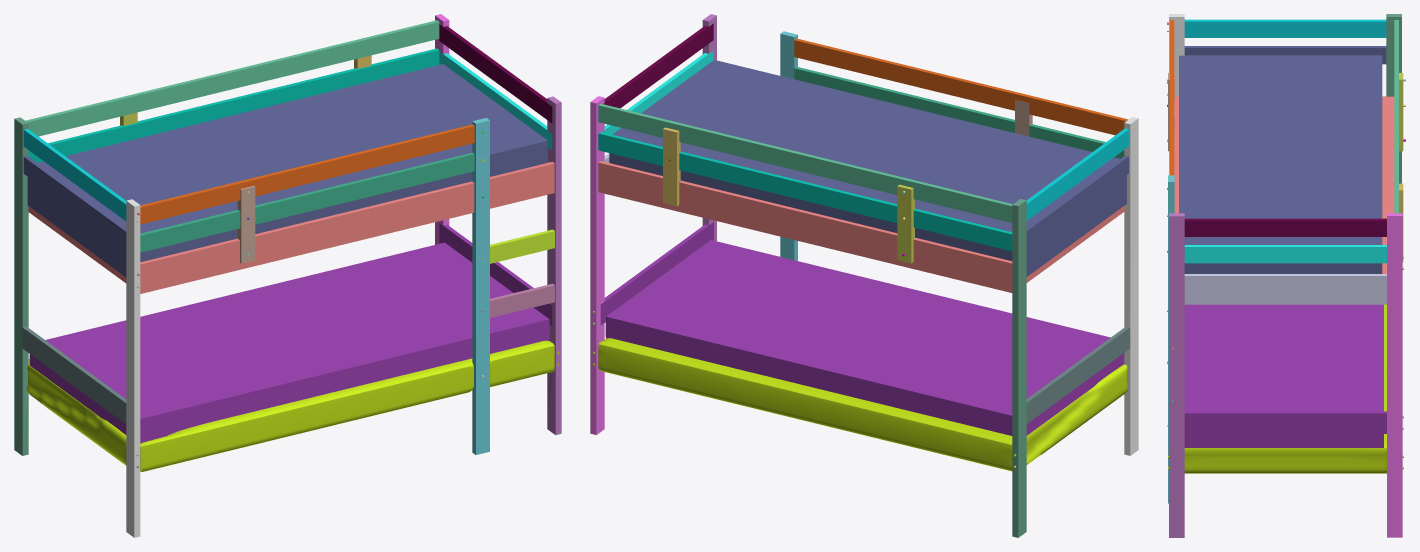
3 views of the same model, side by side, from view 1: azimuth 30°, elevation 25°; view 2: azimuth 150°, elevation 25°; view 3: azimuth 270°, elevation 25° (orthographic). The views are drawn at different scales.
Visible parts, largest first — view 1: split_parent_0, Box002_19 - Default_0, split_parent_2, split_parent_17, Box018_07 - Default_0, Box017_07 - Default_0, Box020_07 - Default_0, Box019_07 - Default_0, Box016_07 - Default_0, Box010_07 - Default_0, Box011_07 - Default_0, Box008_07 - Default_0 (+7 smaller); view 2: split_parent_0, Box002_19 - Default_0, split_parent_2, split_parent_17, Box018_07 - Default_0, Box017_07 - Default_0, Box020_07 - Default_0, Box011_07 - Default_0, Box010_07 - Default_0, split_parent_4, Box019_07 - Default_0, Box013_07 - Default_0 (+6 smaller); view 3: Box002_19 - Default_0, split_parent_0, Box021_07 - Default_0, split_parent_2, split_parent_4, Box008_07 - Default_0, Box022_07 - Default_0, Box023_07 - Default_0, Box025_07 - Default_0, split_parent_17, Box011_07 - Default_0, Box018_07 - Default_0 (+4 smaller).
Boxes of the visible parts, box(x1,y1,x2,y2) form: split_parent_0: box(29, 223, 552, 443); Box002_19 - Default_0: box(23, 64, 547, 276); split_parent_2: box(26, 340, 559, 472); split_parent_17: box(28, 162, 554, 293); Box018_07 - Default_0: box(25, 20, 439, 136); Box017_07 - Default_0: box(28, 48, 439, 162); Box020_07 - Default_0: box(140, 124, 474, 224); Box019_07 - Default_0: box(140, 152, 474, 252); Box016_07 - Default_0: box(472, 118, 489, 454); Box010_07 - Default_0: box(126, 199, 140, 537); Box011_07 - Default_0: box(14, 117, 28, 455); Box008_07 - Default_0: box(547, 96, 561, 435); split_parent_0: box(600, 222, 1124, 435); Box002_19 - Default_0: box(609, 60, 1128, 276); split_parent_2: box(592, 338, 1127, 471); split_parent_17: box(598, 161, 1124, 292); Box018_07 - Default_0: box(598, 103, 1012, 222); Box017_07 - Default_0: box(598, 132, 1012, 251); Box020_07 - Default_0: box(794, 38, 1128, 135); Box011_07 - Default_0: box(1012, 199, 1026, 537); Box010_07 - Default_0: box(1124, 117, 1138, 455); split_parent_4: box(590, 96, 604, 434); Box019_07 - Default_0: box(794, 67, 1124, 158); Box013_07 - Default_0: box(1026, 326, 1130, 423); Box002_19 - Default_0: box(1179, 46, 1386, 273); split_parent_0: box(1184, 304, 1386, 447); Box021_07 - Default_0: box(1184, 274, 1386, 304); split_parent_2: box(1168, 256, 1403, 473); split_parent_4: box(1387, 213, 1402, 537); Box008_07 - Default_0: box(1169, 213, 1184, 537); Box022_07 - Default_0: box(1184, 245, 1386, 263); Box023_07 - Default_0: box(1184, 218, 1386, 236); Box025_07 - Default_0: box(1184, 19, 1386, 37); split_parent_17: box(1174, 75, 1394, 273); Box011_07 - Default_0: box(1386, 14, 1401, 183); Box018_07 - Default_0: box(1394, 20, 1398, 213).
Bounding box in the file's own units: 1 × 0.7404 × 0.4979.
